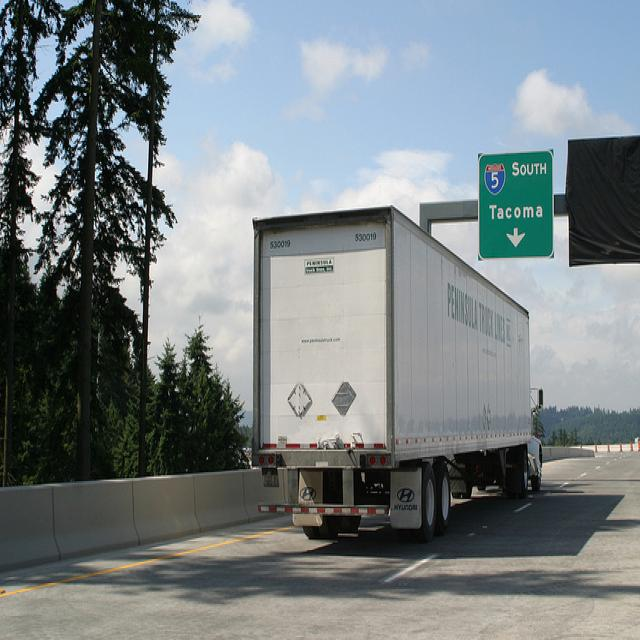Vehicle: (252, 206, 545, 544)
